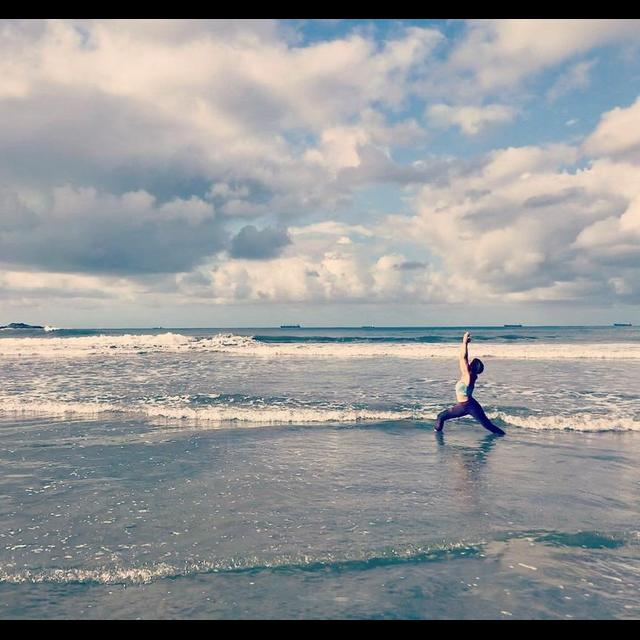Warrior_I: (419, 327, 517, 447)
